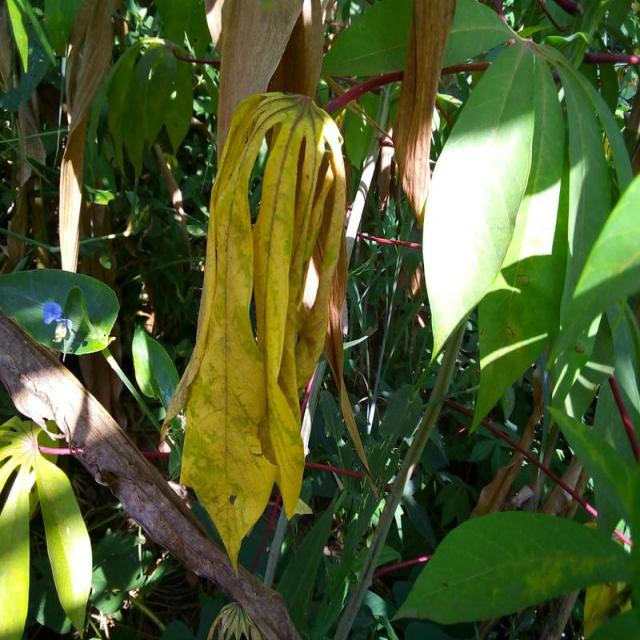cassava leaf: (158, 88, 350, 575), (421, 38, 564, 365), (390, 509, 631, 626), (0, 267, 120, 357)
